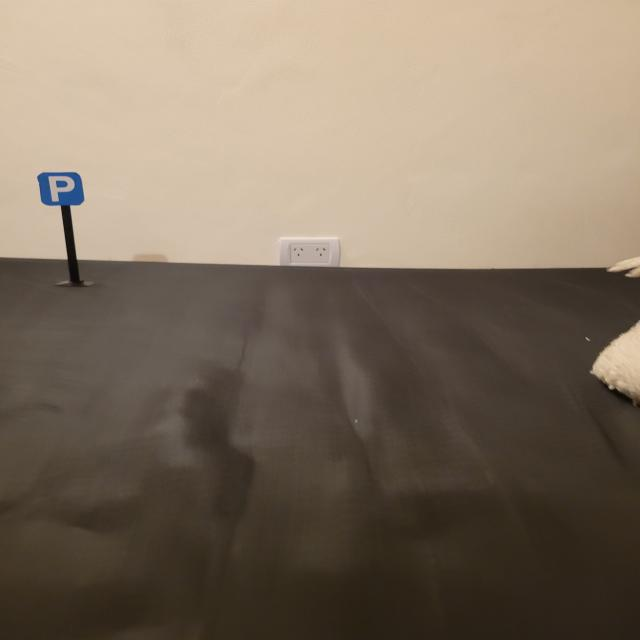parking: (38, 172, 85, 207)
